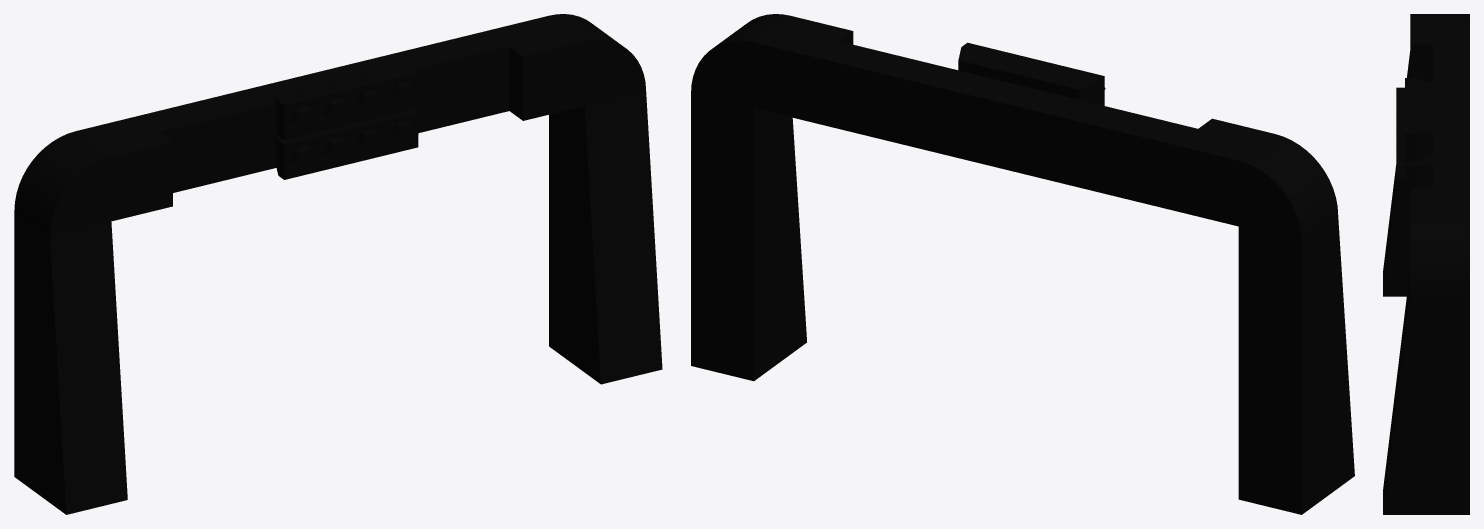
The model's file is overheadLights.glb.
The picture shows the model from 3 angles, left to right: view 1: azimuth 30°, elevation 25°; view 2: azimuth 150°, elevation 25°; view 3: azimuth 270°, elevation 25°; orthographic projection. The views are drawn at different scales.
Parts seen in each view (by area): view 1: Mesh overheadLights; view 2: Mesh overheadLights; view 3: Mesh overheadLights.
Part boxes in pixels (x1,y1,x2,y2): Mesh overheadLights: [14, 14, 662, 514]; Mesh overheadLights: [691, 14, 1354, 514]; Mesh overheadLights: [1383, 14, 1469, 514].
Size of the model in its own units: 1.26 by 0.6939 by 0.19.
1 material, 1 textured.
